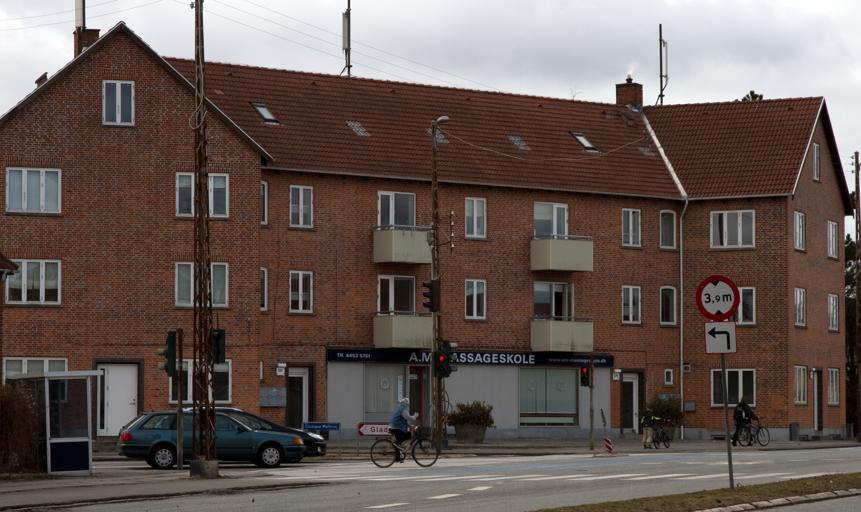non-vehicle: (369, 424, 439, 467), (737, 415, 770, 446), (651, 422, 670, 449)
